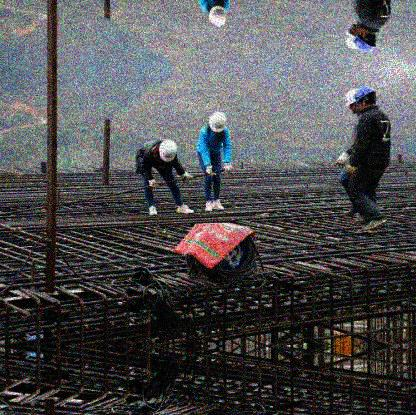helmet: (354, 86, 379, 111), (356, 25, 377, 54), (345, 85, 359, 113), (345, 26, 357, 51)
